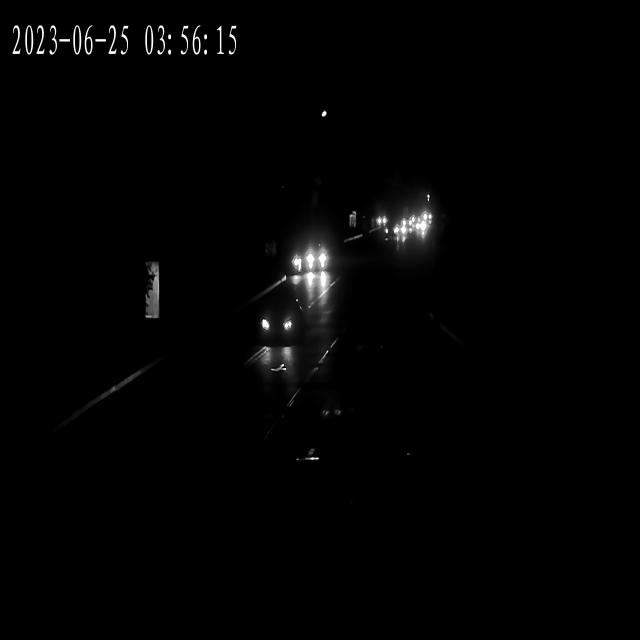Car: (258, 300, 300, 346), (298, 242, 329, 280), (301, 239, 332, 273), (386, 225, 406, 243), (387, 221, 409, 236), (382, 223, 401, 240), (384, 226, 404, 242), (410, 223, 429, 239), (408, 220, 428, 234), (372, 212, 388, 228), (418, 213, 434, 226)
